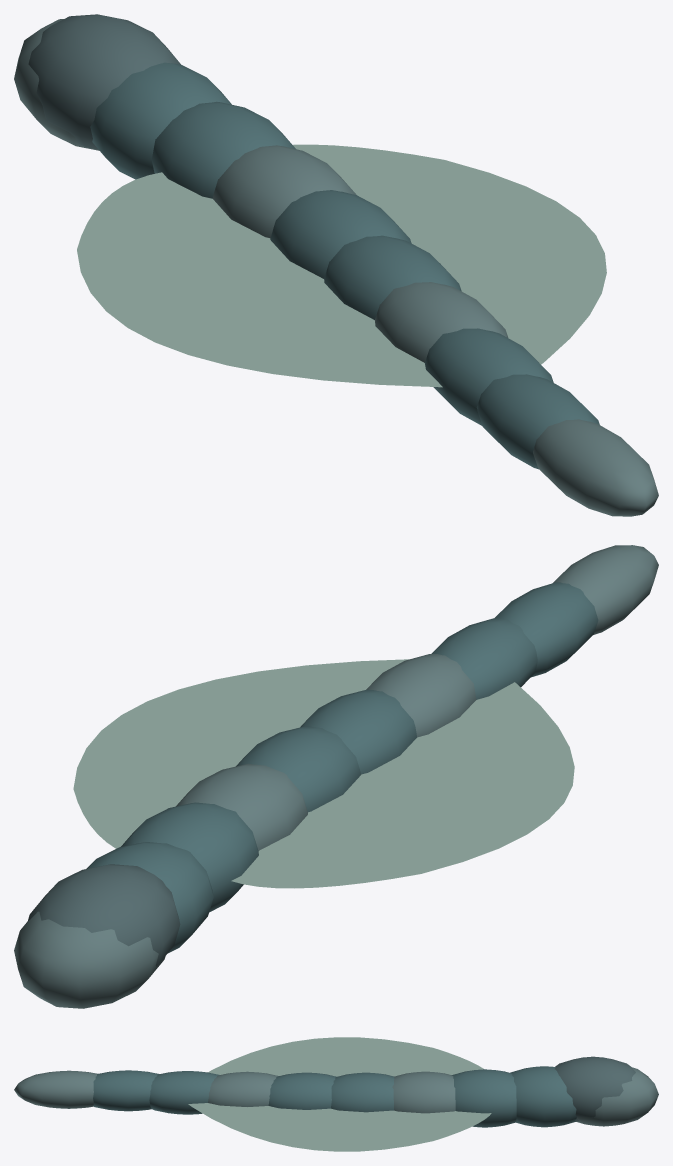
The model's file is skyeel.glb.
3 views of the same model, one above another, from view 1: azimuth 30°, elevation 25°; view 2: azimuth 150°, elevation 25°; view 3: azimuth 270°, elevation 25° (orthographic). The views are drawn at different scales.
Visible parts, largest first — view 1: carapace_stone, flowing_fin_stone (×2); view 2: carapace_stone, flowing_fin_stone (×2); view 3: carapace_stone, flowing_fin_stone (×2).
Part boxes in pixels (x1,y1,x2,y2): carapace_stone: (14,14,658,516); flowing_fin_stone (×2): (77,144,606,387); carapace_stone: (14,545,658,1008); flowing_fin_stone (×2): (73,659,574,888); carapace_stone: (14,1056,658,1127); flowing_fin_stone (×2): (188,1037,491,1151).
Size of the model in its own units: 0.8356 by 0.21 by 1.99.
